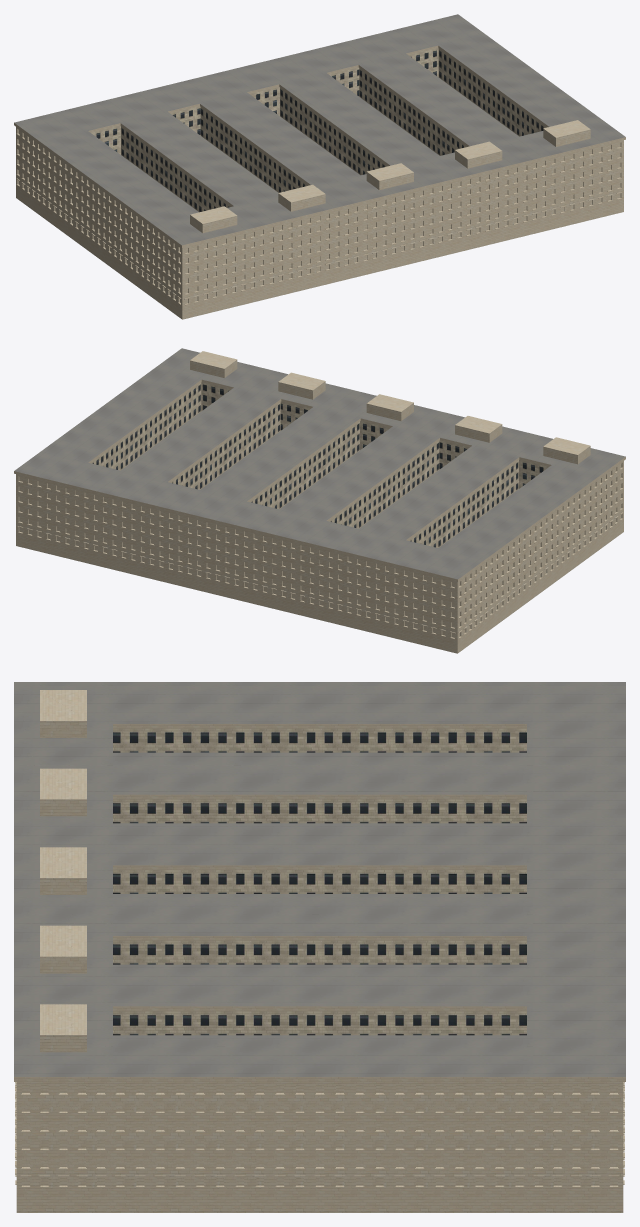
Rendered from interior_main.glb.
The picture shows the model from 3 angles, top to bottom: view 1: azimuth 30°, elevation 25°; view 2: azimuth 150°, elevation 25°; view 3: azimuth 270°, elevation 25°; orthographic projection. The views are drawn at different scales.
Visible parts, largest first — view 1: interior_main; view 2: interior_main; view 3: interior_main.
Part boxes in pixels (box(x1,y1,x2,y2)): interior_main: box(14, 14, 625, 319); interior_main: box(14, 348, 625, 653); interior_main: box(14, 682, 625, 1212).
Bounding box in the file's own units: 180 × 32.61 × 118.
4 materials, 4 textured.
